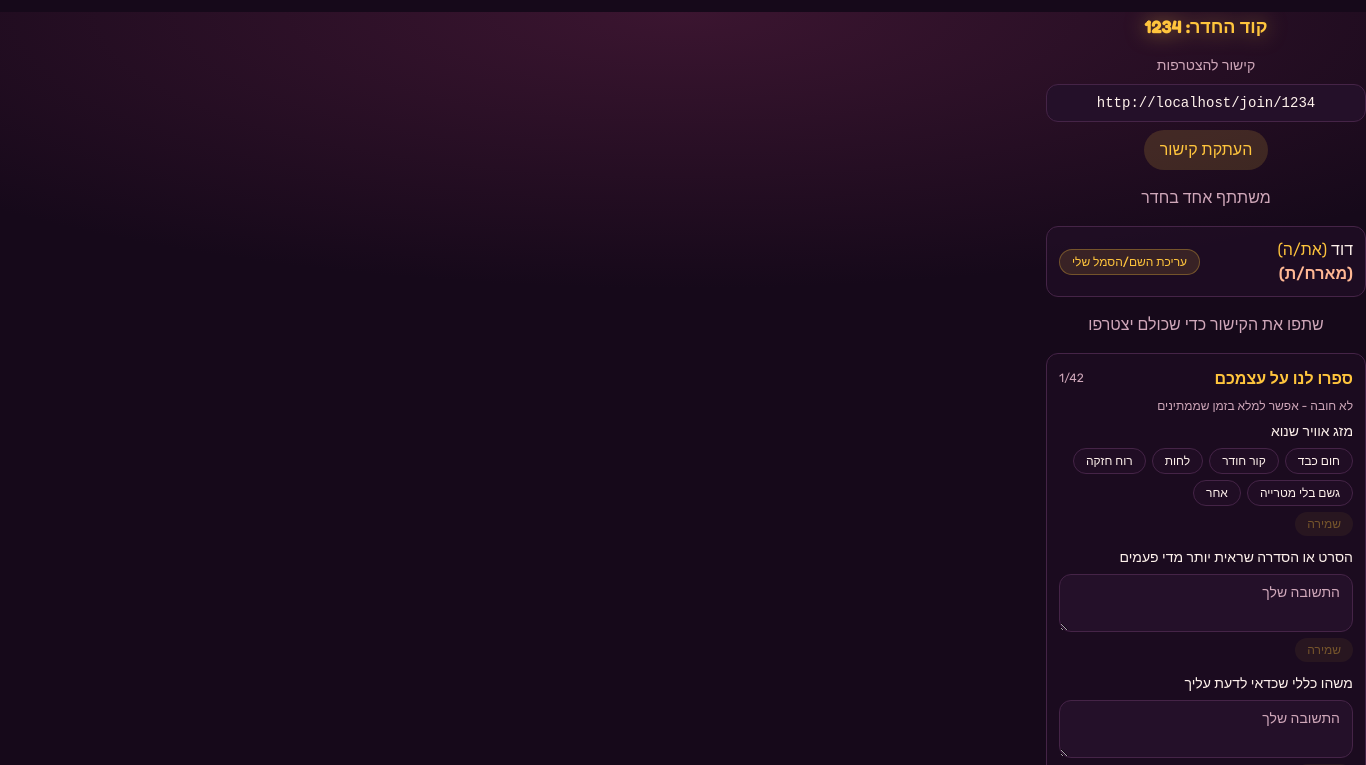
Test: Lobby › reminds the player to use a name the room will recognise while editing it
Expected: the text "כתבו שם שכולם מכירים" is not shown
Click the button "עריכת השם/הסמל שלי": (1130, 262) 1059,248 -> 1200,274
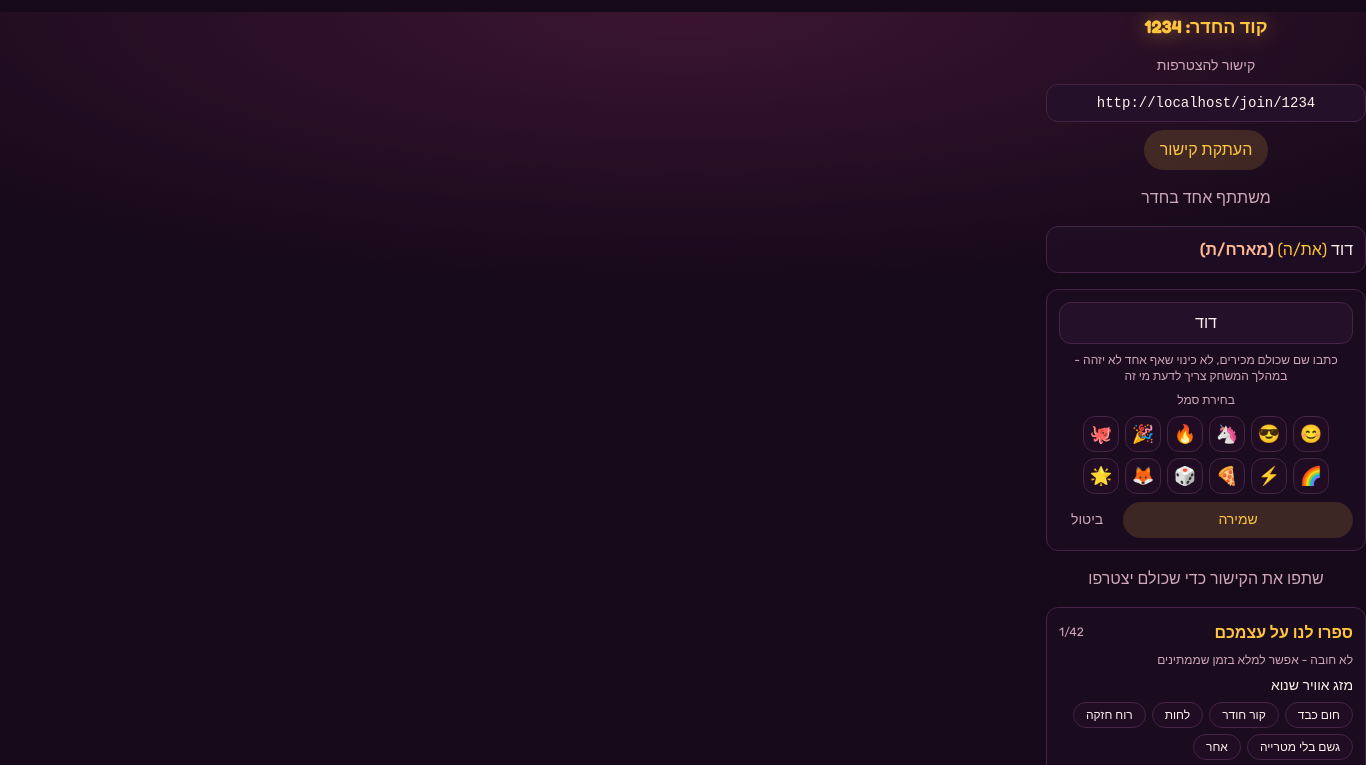
Result: the text "כתבו שם שכולם מכירים" is shown at 1074,353 -> 1338,383
